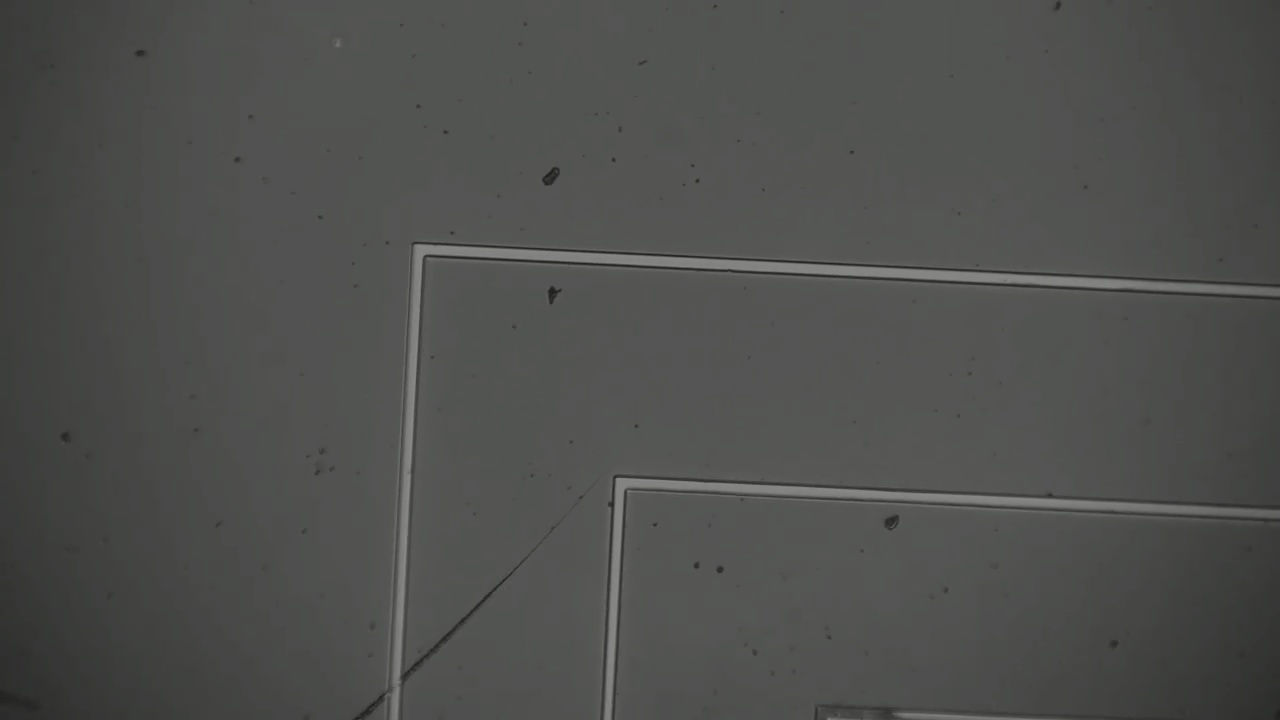gray_line: (804, 688, 916, 719)
scratch: (346, 477, 603, 719)
